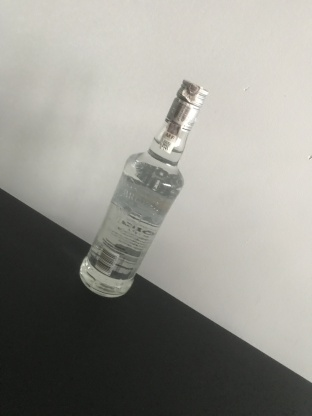nakretka: (163, 77, 210, 134)
